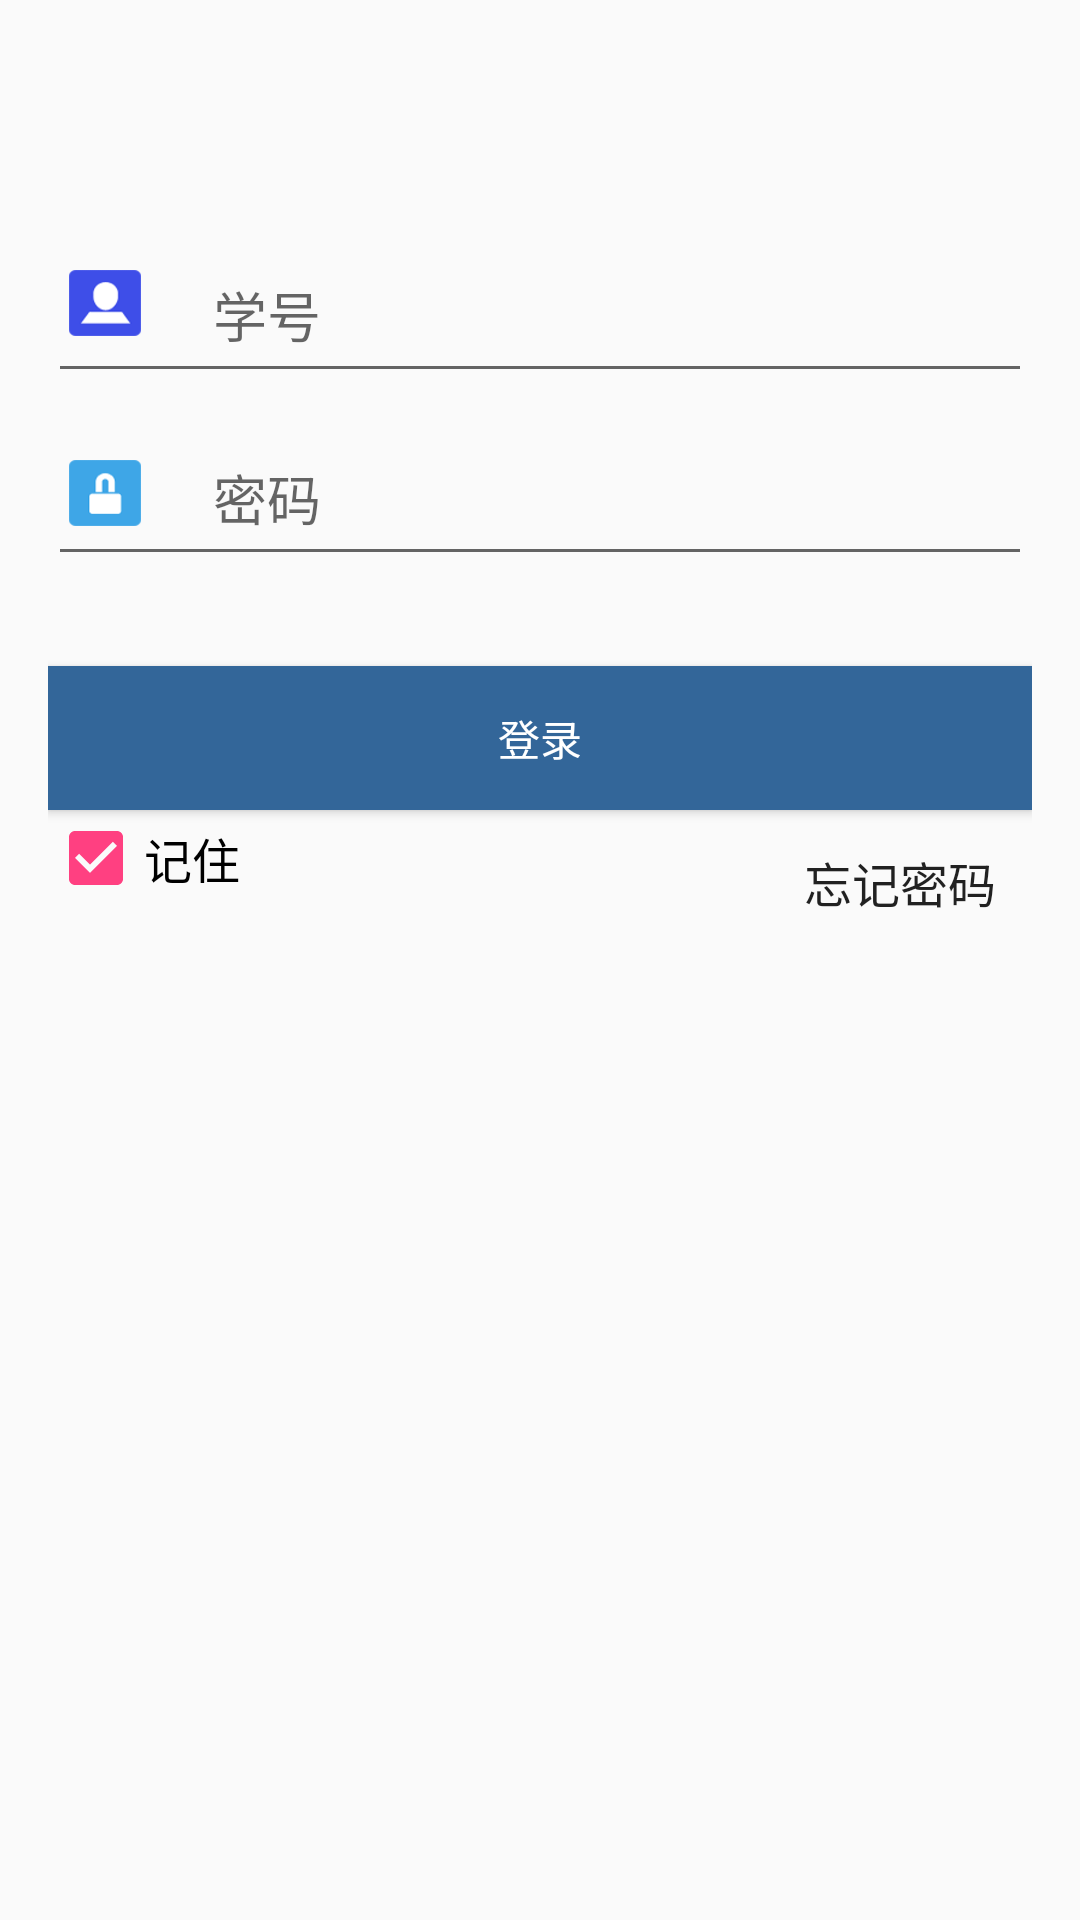

Locate icon controls on the screen. Image size 1080px×1920px, boxes as bbox(x1, y1, x2, y2).
login password: bbox(69, 460, 141, 526)
login username: bbox(69, 270, 141, 336)
